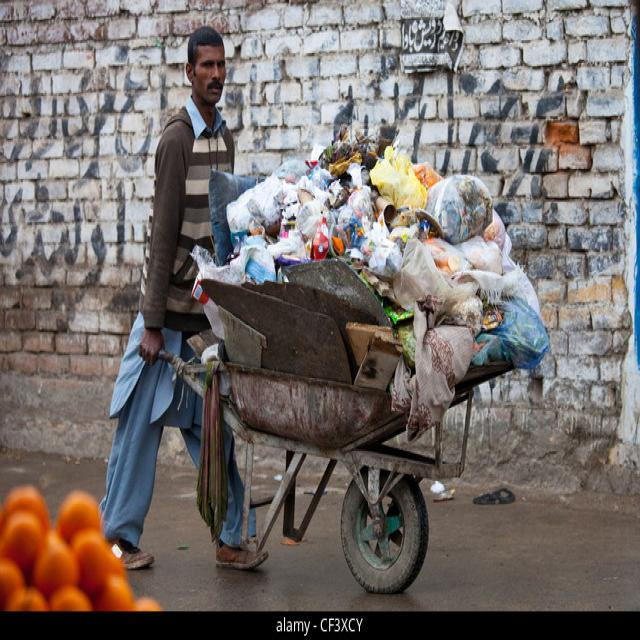trash: (262, 152, 520, 401)
